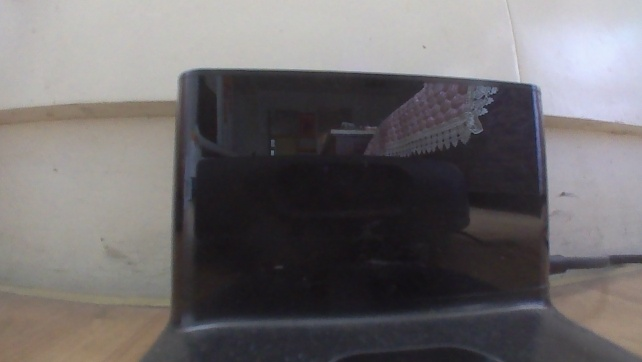wire: (545, 247, 641, 278)
